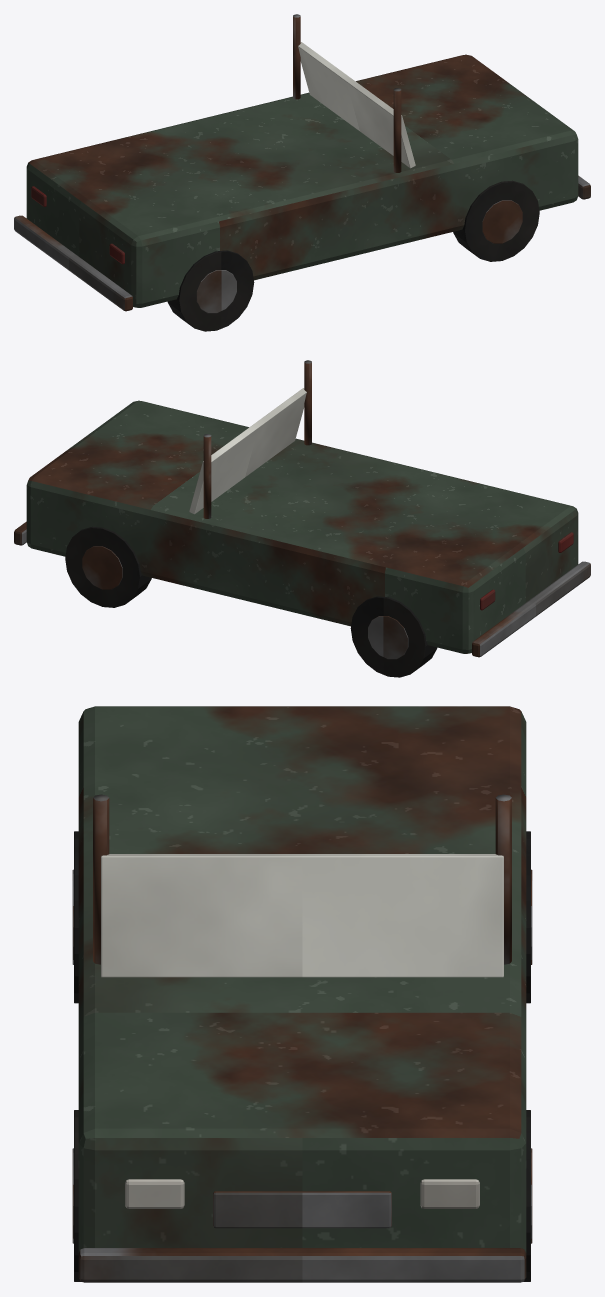
The model's file is CV03_open_jeep.glb.
3 views of the same model, one above another, from view 1: azimuth 30°, elevation 25°; view 2: azimuth 150°, elevation 25°; view 3: azimuth 270°, elevation 25° (orthographic). The views are drawn at different scales.
Visible parts, largest first — view 1: CV03_open_jeep; view 2: CV03_open_jeep; view 3: CV03_open_jeep.
Part boxes in pixels (bbox=[...]): CV03_open_jeep: bbox=[14, 14, 590, 331]; CV03_open_jeep: bbox=[14, 360, 590, 677]; CV03_open_jeep: bbox=[72, 706, 532, 1282].
Bounding box in the file's own units: 3.8 × 1.48 × 1.62.
Materials: 6 (6 with a texture image).
